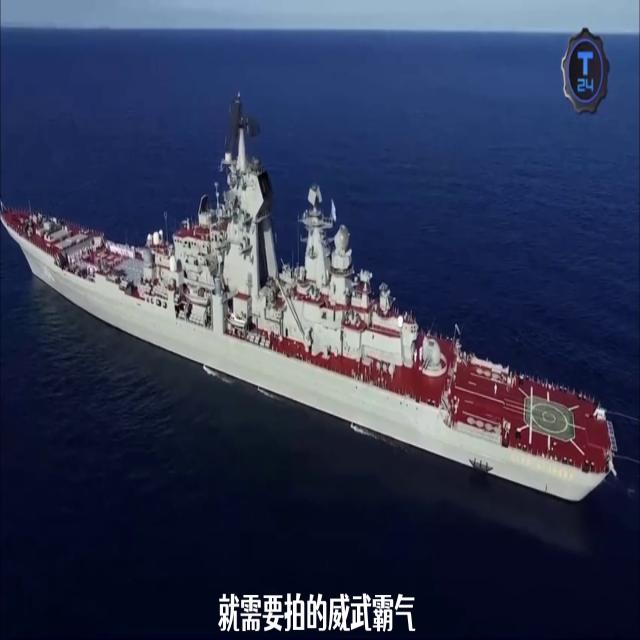navalvessels: (0, 93, 613, 511)
